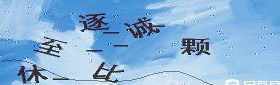chinese: (124, 17, 158, 42), (93, 61, 121, 85), (17, 62, 44, 85), (80, 12, 107, 33), (184, 37, 210, 55), (39, 37, 60, 56)
